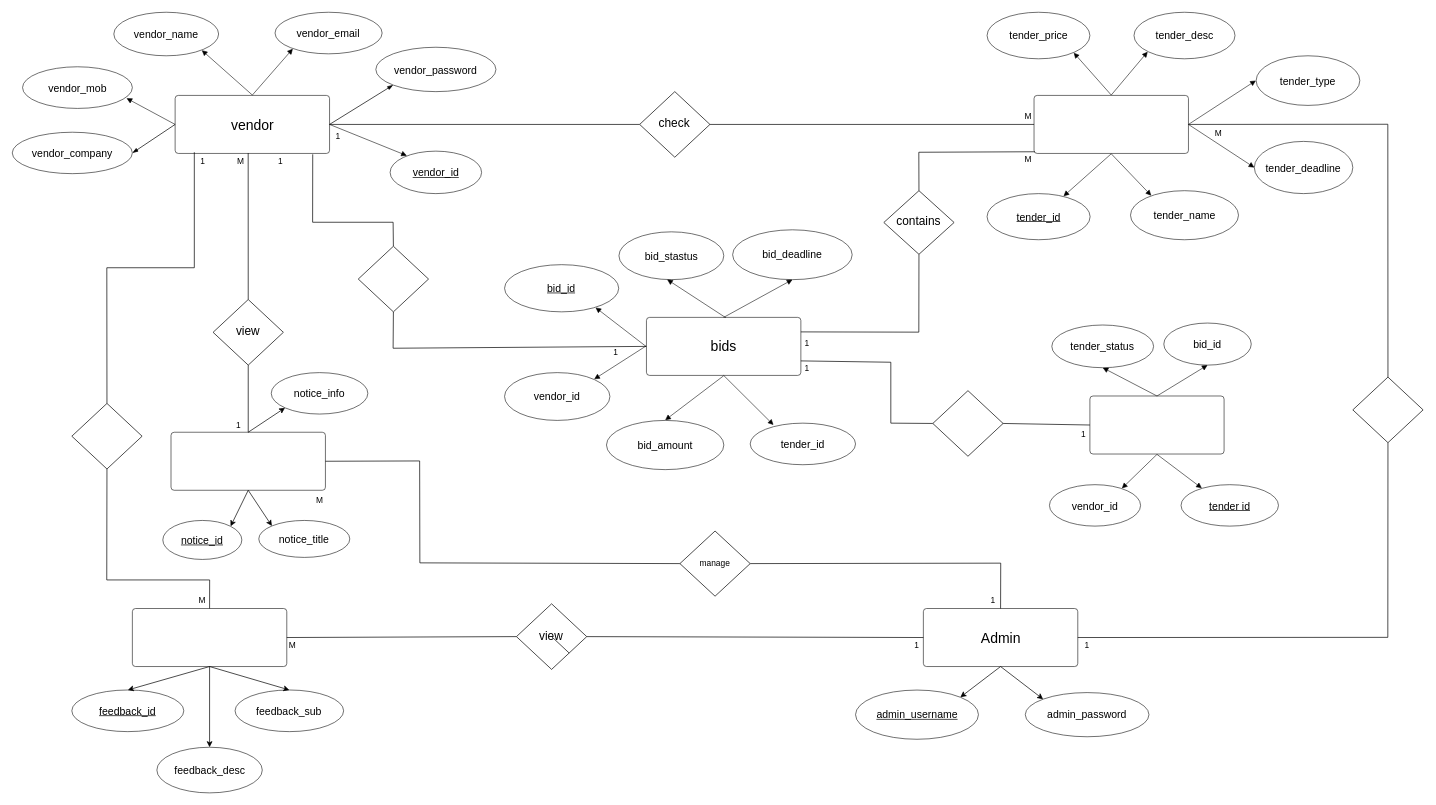
Some shapes in this 1436 by 805 pixel diagram are drawn without their labels. The centre of each missing label's shape, as x and y in pixels:
"bid" belongs at point 393,279.
"create" belongs at point 1387,409.
"feedback" belongs at point 209,637.
"has" belongs at point 967,423.
"notice" belongs at point 247,461.
"submit" belongs at point 106,436.
"tender" belongs at point 1110,124.
"tenderstatus" belongs at point 1156,424.
